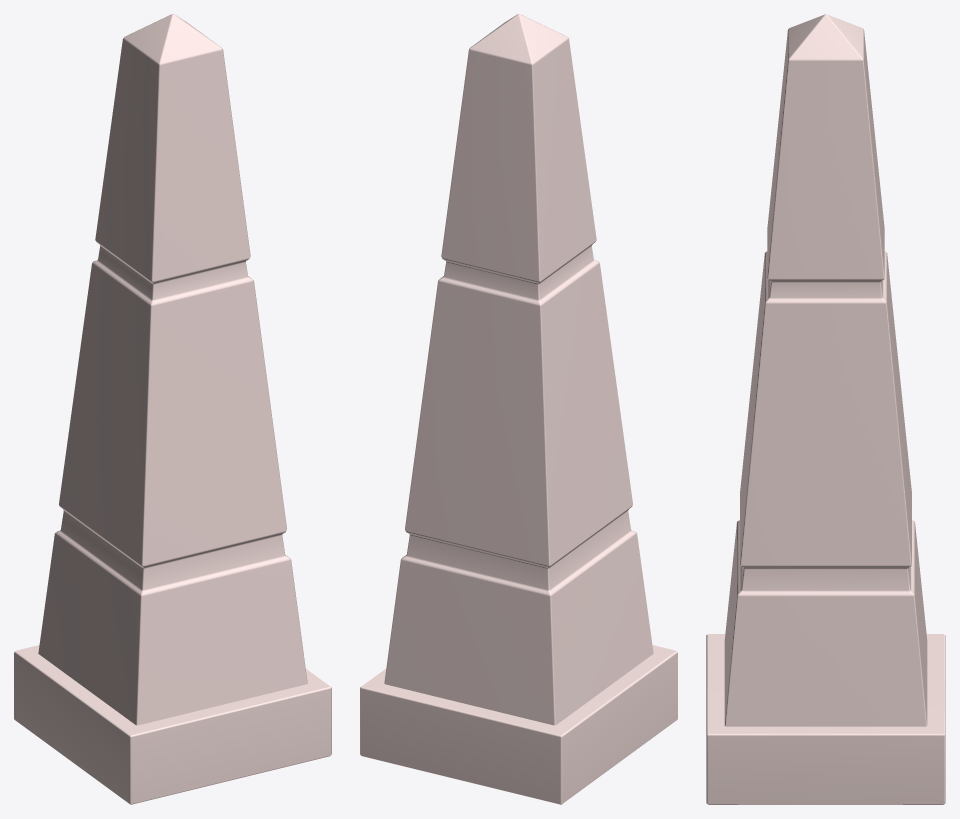
Rendered from Public_9_Exhibit_Column_1.glb.
The picture shows the model from 3 angles, left to right: view 1: azimuth 30°, elevation 25°; view 2: azimuth 150°, elevation 25°; view 3: azimuth 270°, elevation 25°; orthographic projection. The views are drawn at different scales.
Visible parts, largest first — view 1: Public_9_Exhibit_Column_1; view 2: Public_9_Exhibit_Column_1; view 3: Public_9_Exhibit_Column_1.
Part boxes in pixels (x1,y1,x2,y2): Public_9_Exhibit_Column_1: (14,14,331,804); Public_9_Exhibit_Column_1: (360,14,677,804); Public_9_Exhibit_Column_1: (706,14,945,804).
Bounding box in the file's own units: 2.82 × 9.62 × 2.82.
1 material, 1 textured.
